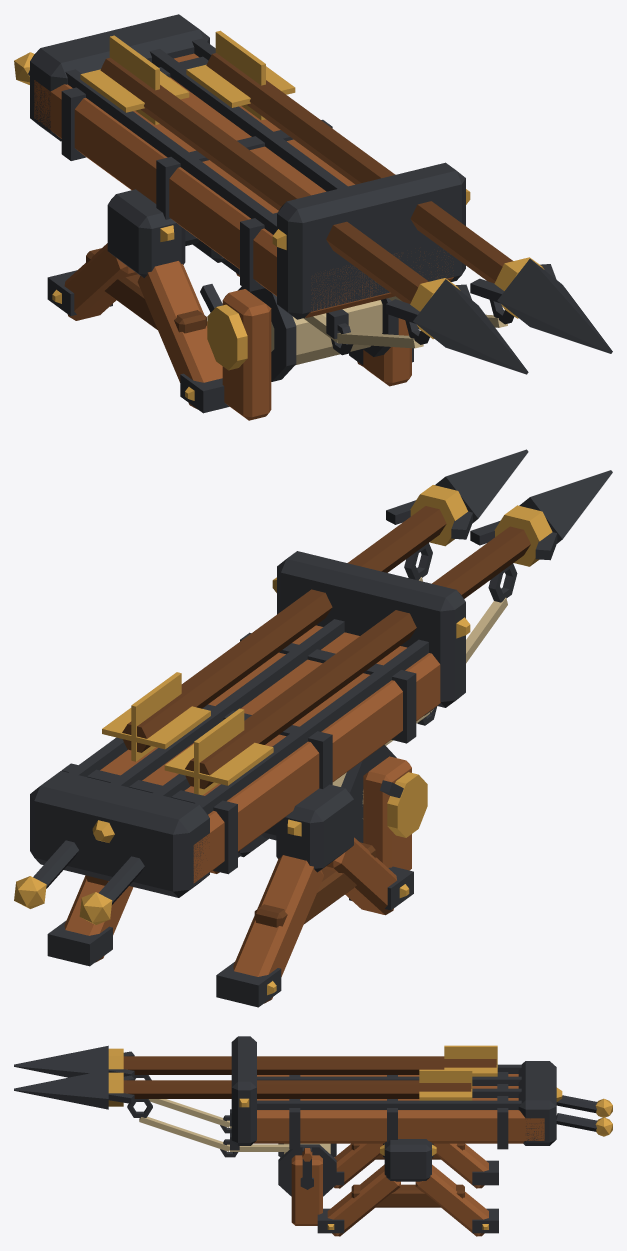
File: HarpoonA.obj
3 renders of one model, top to bottom at view 1: azimuth 30°, elevation 25°; view 2: azimuth 150°, elevation 25°; view 3: azimuth 270°, elevation 25°, orthographic. The views are drawn at different scales.
Parts seen in each view (by area): view 1: HarpoonA; view 2: HarpoonA; view 3: HarpoonA.
Boxes of the visible parts, x1,y1,x2,y2 form: HarpoonA: (14,14,612,420); HarpoonA: (14,449,612,1007); HarpoonA: (14,1036,612,1236).
Bounding box in the file's own units: 0.567 × 0.6357 × 2.28.
